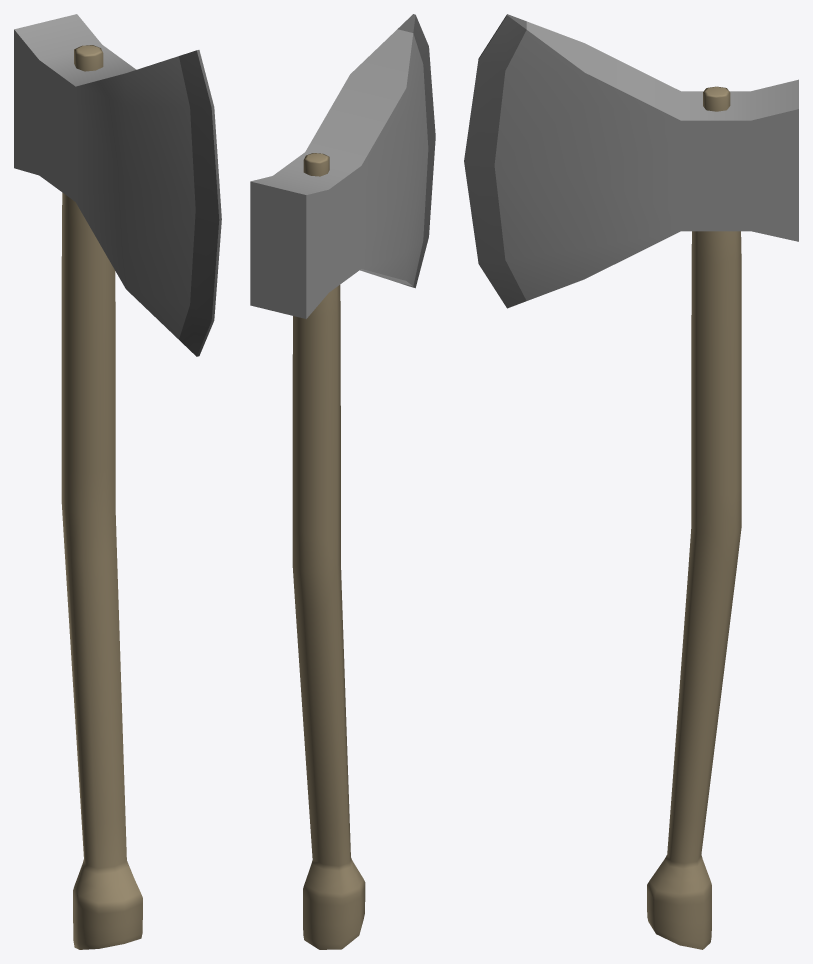
The model's file is Axe.fbx.
The picture shows the model from 3 angles, left to right: view 1: azimuth 30°, elevation 25°; view 2: azimuth 150°, elevation 25°; view 3: azimuth 270°, elevation 25°; orthographic projection. The views are drawn at different scales.
Parts seen in each view (by area): view 1: AxeModel; view 2: AxeModel; view 3: AxeModel.
Part boxes in pixels (x1=…): AxeModel: x1=14, y1=14, x2=221, y2=949; AxeModel: x1=250, y1=14, x2=435, y2=949; AxeModel: x1=464, y1=14, x2=798, y2=949.
Bounding box in the file's own units: 0.0893 × 0.4295 × 1.31.
